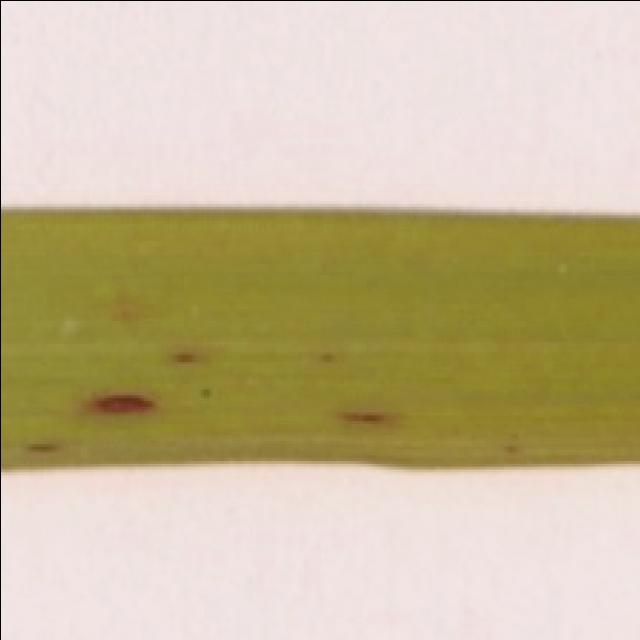Unhealthy: (84, 390, 164, 415), (338, 409, 394, 425), (108, 302, 136, 321), (25, 443, 57, 452), (169, 352, 193, 363), (318, 350, 335, 362), (502, 442, 516, 456), (200, 386, 212, 400)
